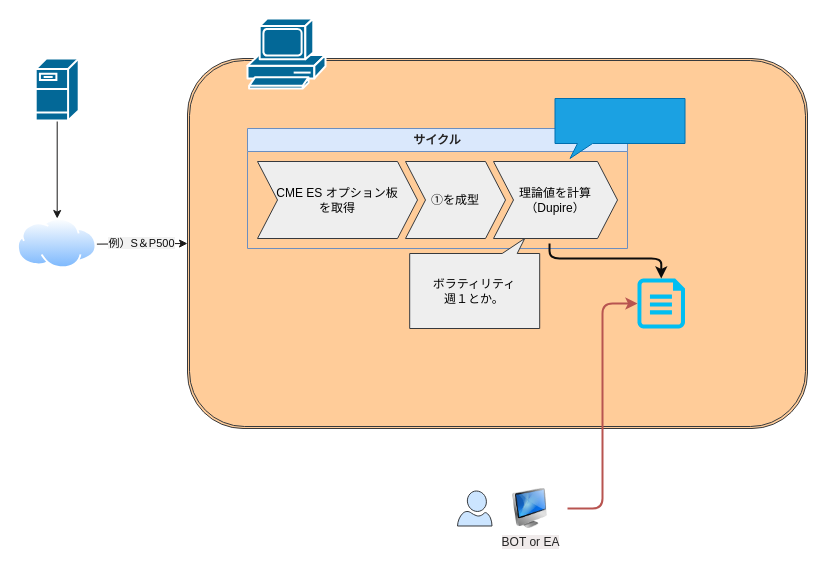
Some shapes in this 825 by 566 pixel diagram are drawn without their labels. The box of each missing label's shape, as (x1, y1, x2, y2) in pixels:
human: (456, 490, 492, 526)
ここまで。 クラス設計: (554, 98, 685, 158)
データ: (637, 278, 684, 328)
